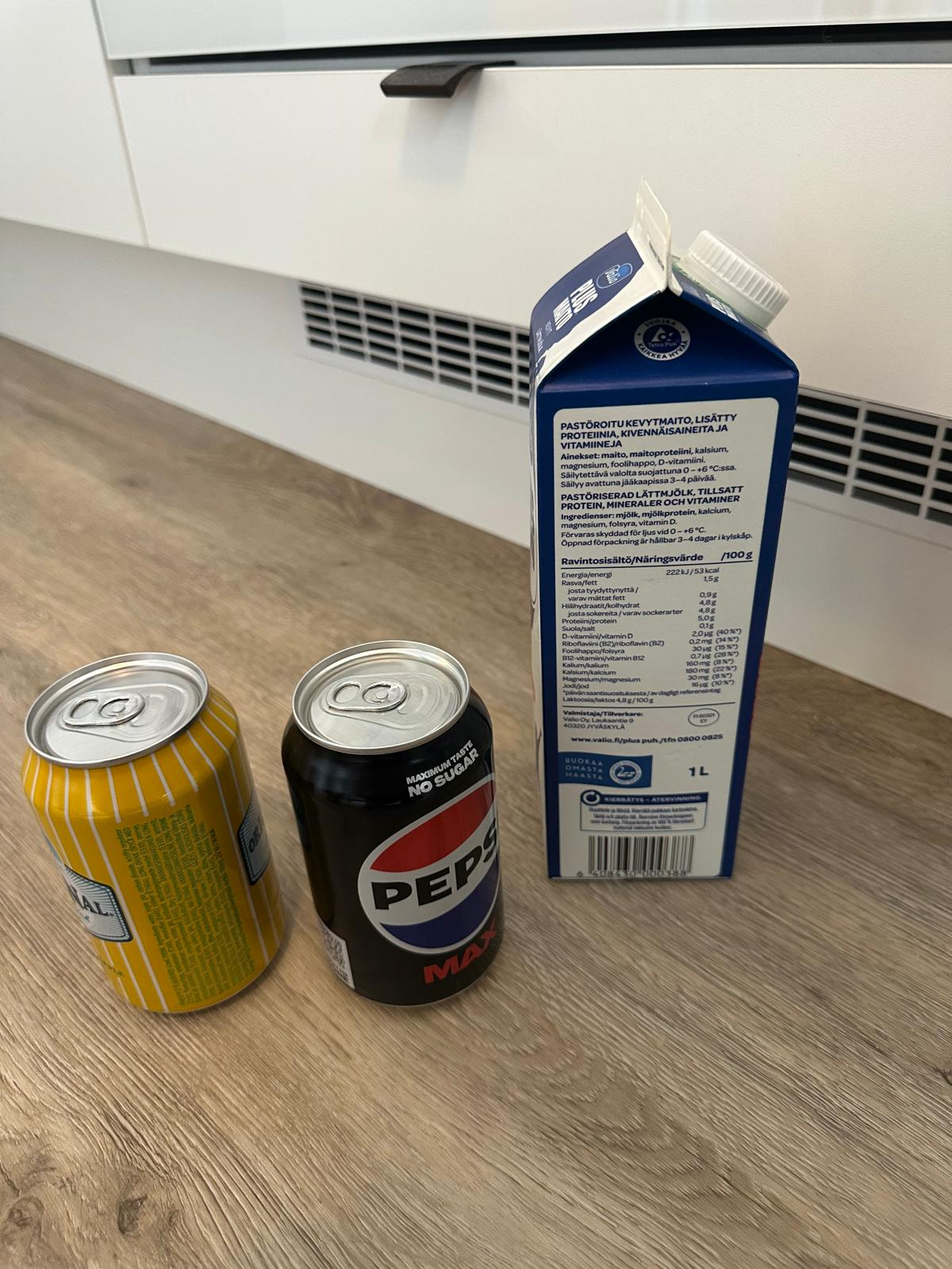Dryckeskartong: (529, 177, 800, 882)
Pantburk: (22, 651, 287, 1014), (281, 640, 504, 1008)
